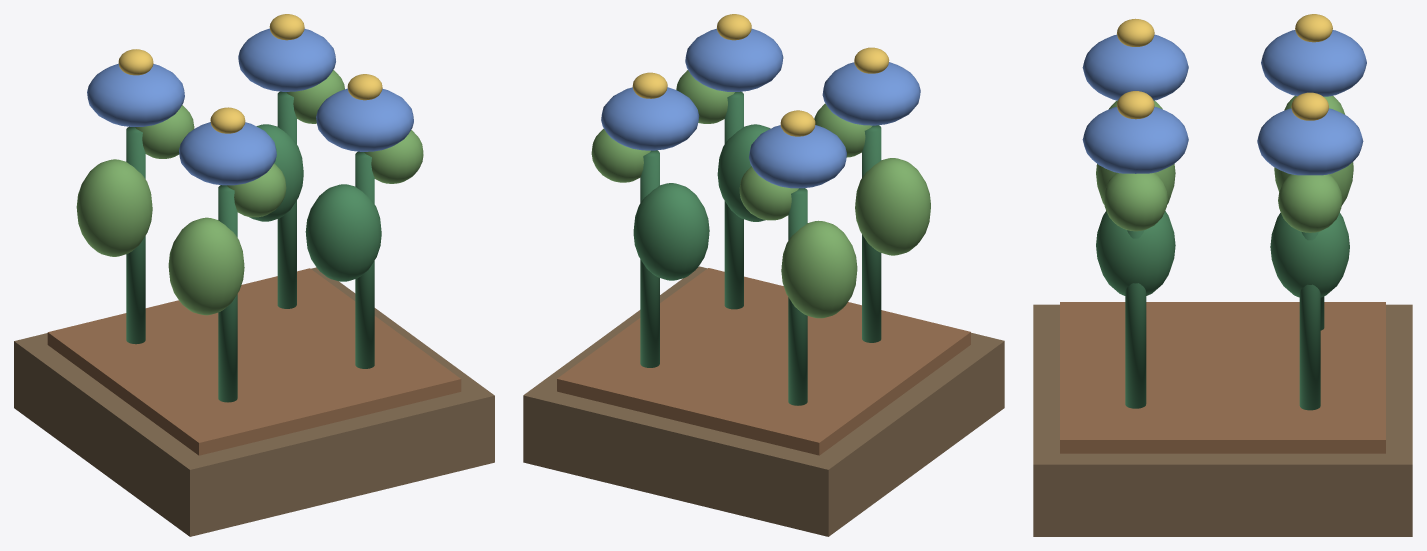
File: garden.flower.cornflower-old.glb
3 views of the same model, side by side, from view 1: azimuth 30°, elevation 25°; view 2: azimuth 150°, elevation 25°; view 3: azimuth 270°, elevation 25° (orthographic). The views are drawn at different scales.
Visible parts, largest first — view 1: garden timber frame; view 2: garden timber frame; view 3: garden timber frame.
Boxes of the visible parts, x1=… form: garden timber frame: x1=14, y1=14, x2=494, y2=536; garden timber frame: x1=523, y1=14, x2=1004, y2=536; garden timber frame: x1=1033, y1=14, x2=1412, y2=536.
Bounding box in the file's own units: 1 × 1.16 × 1.
